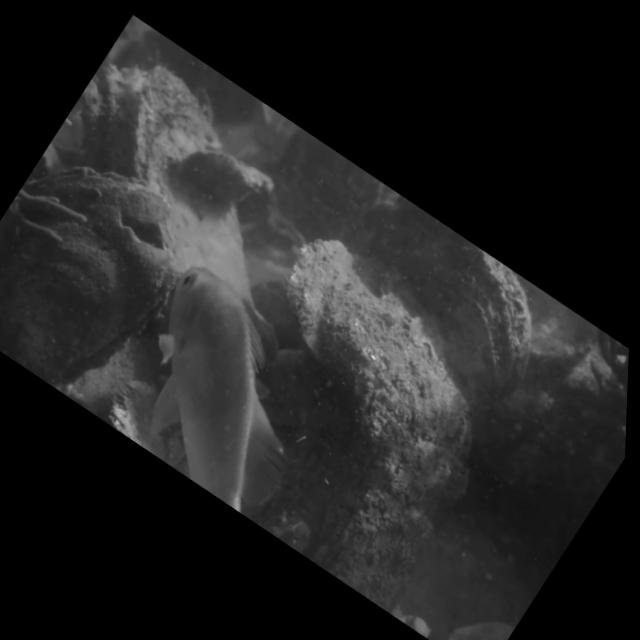Oyster-Closed: (274, 233, 476, 614)
Oyster-Indeterminate: (0, 161, 179, 394)
